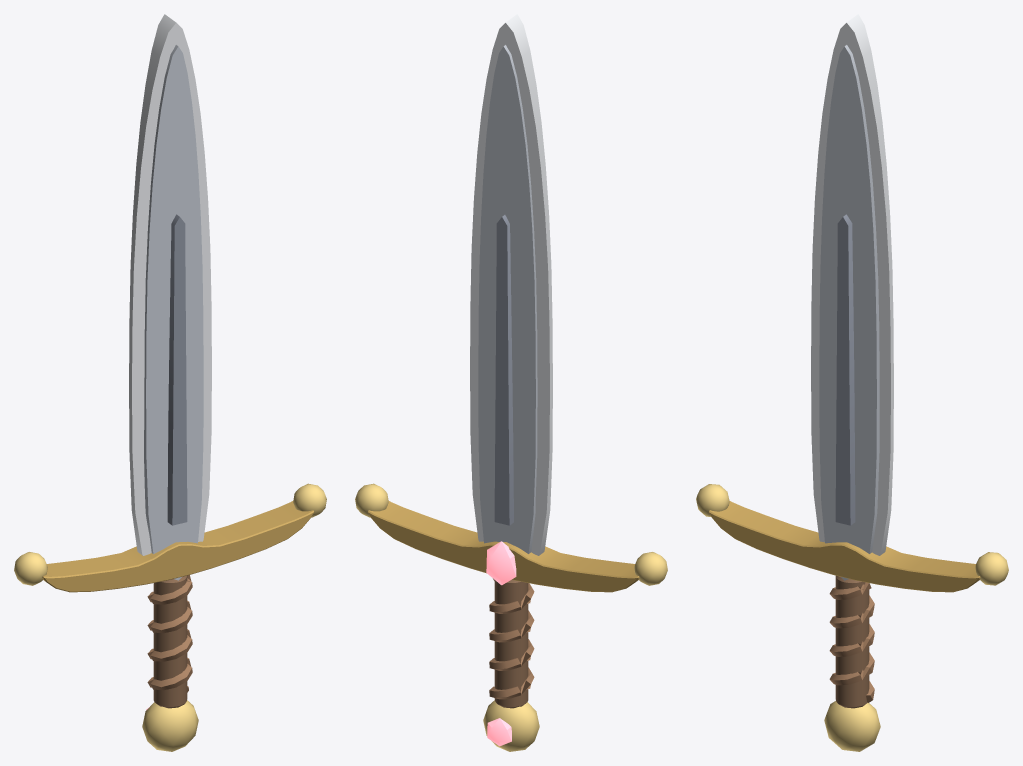
File: gen_sword.fbx
The picture shows the model from 3 angles, left to right: view 1: azimuth 30°, elevation 25°; view 2: azimuth 150°, elevation 25°; view 3: azimuth 330°, elevation 25°; orthographic projection.
Parts seen in each view (by area): view 1: sword; view 2: sword; view 3: sword.
Boxes of the visible parts, x1=… form: sword: x1=14, y1=14, x2=326, y2=751; sword: x1=355, y1=14, x2=667, y2=751; sword: x1=696, y1=14, x2=1008, y2=751.
Size of the model in its own units: 0.4518 by 1.03 by 0.0706.
